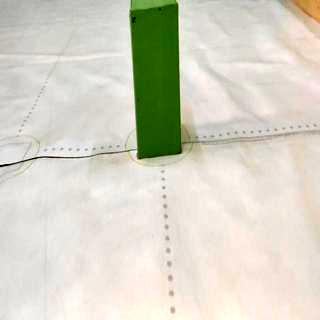greenbox: (127, 0, 184, 161)
